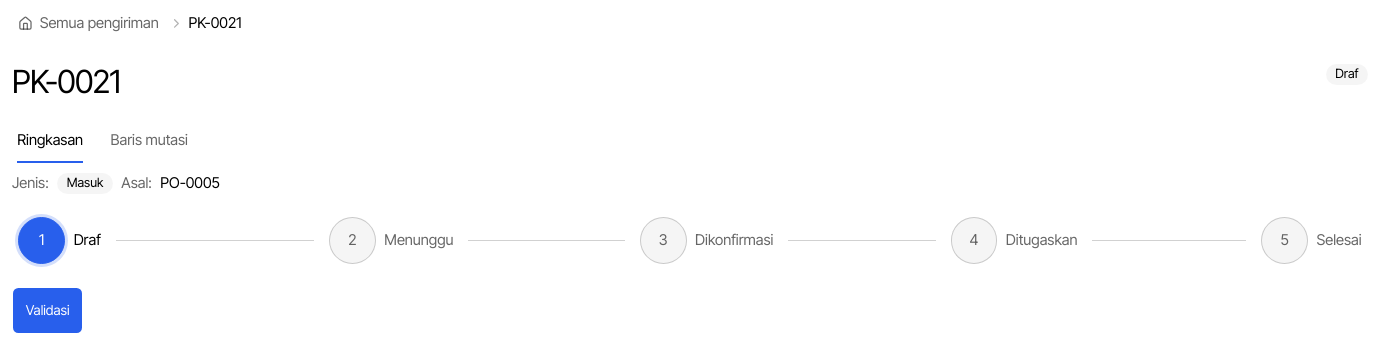
it: ShipmentDetail extra2 › shows the empty moves state
What coordinates should you click on to do the following:
click the tab "Baris mutasi"
I would click on:
 (149, 141)
Its box is [110, 117, 189, 164].
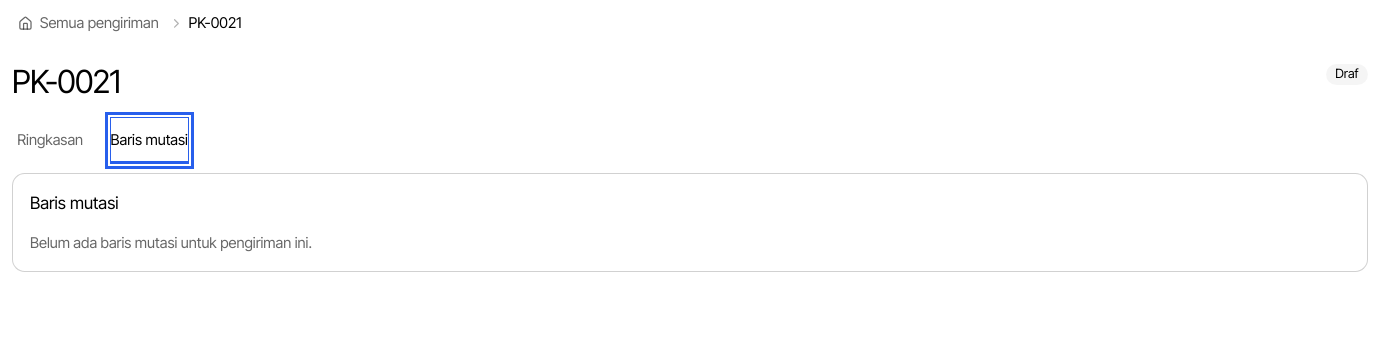
Result: the text "Belum ada baris mutasi untuk pengiriman ini." is shown at [30, 234, 312, 252]
